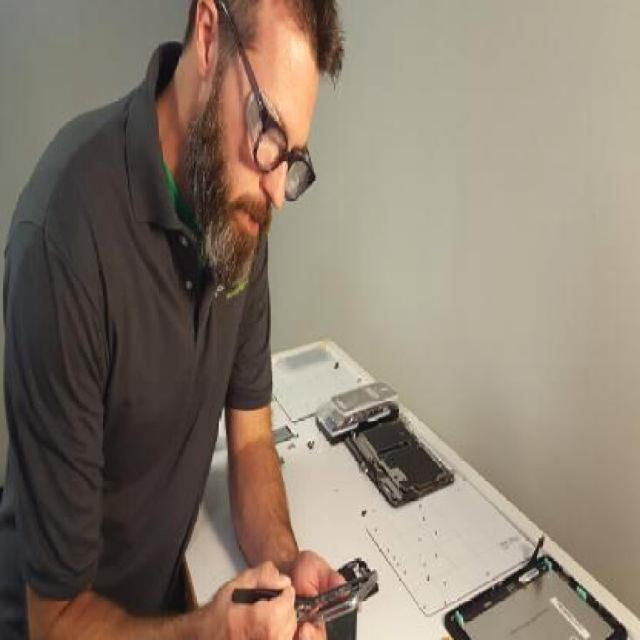face_nomask: (211, 118, 311, 248)
glasses: (212, 110, 317, 204)
hand_noglove: (207, 561, 306, 640)
head_nohelmet: (231, 0, 345, 95)
person: (0, 7, 357, 640)
